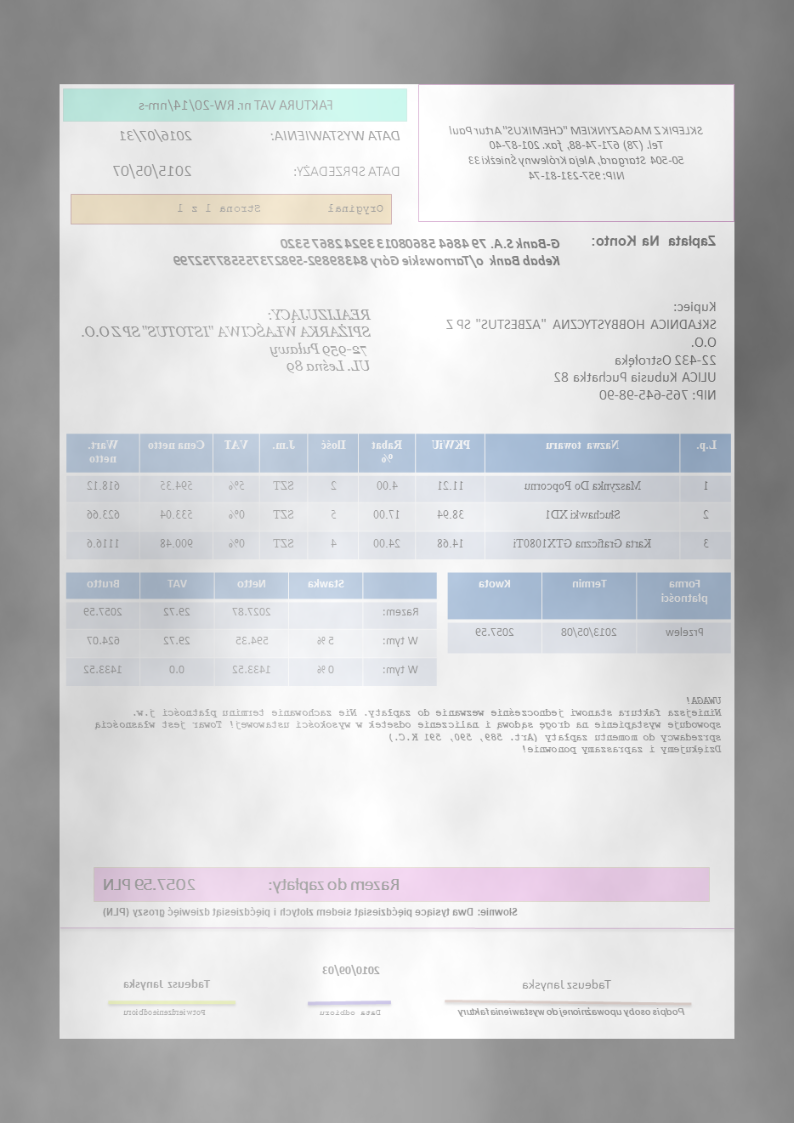Table: (65, 432, 733, 561), (65, 570, 439, 688), (446, 570, 733, 655)
TextBox: (90, 692, 723, 757), (444, 298, 720, 402), (78, 305, 375, 377), (446, 119, 708, 185), (171, 234, 564, 270), (101, 903, 521, 921), (99, 871, 403, 894), (137, 93, 337, 116), (455, 1001, 689, 1019), (173, 199, 386, 218), (269, 125, 403, 144), (292, 160, 403, 181), (591, 231, 718, 249), (120, 974, 212, 993), (110, 161, 196, 181), (520, 975, 614, 992), (118, 126, 196, 144), (122, 1006, 207, 1019), (320, 961, 383, 978), (318, 1006, 383, 1019)
